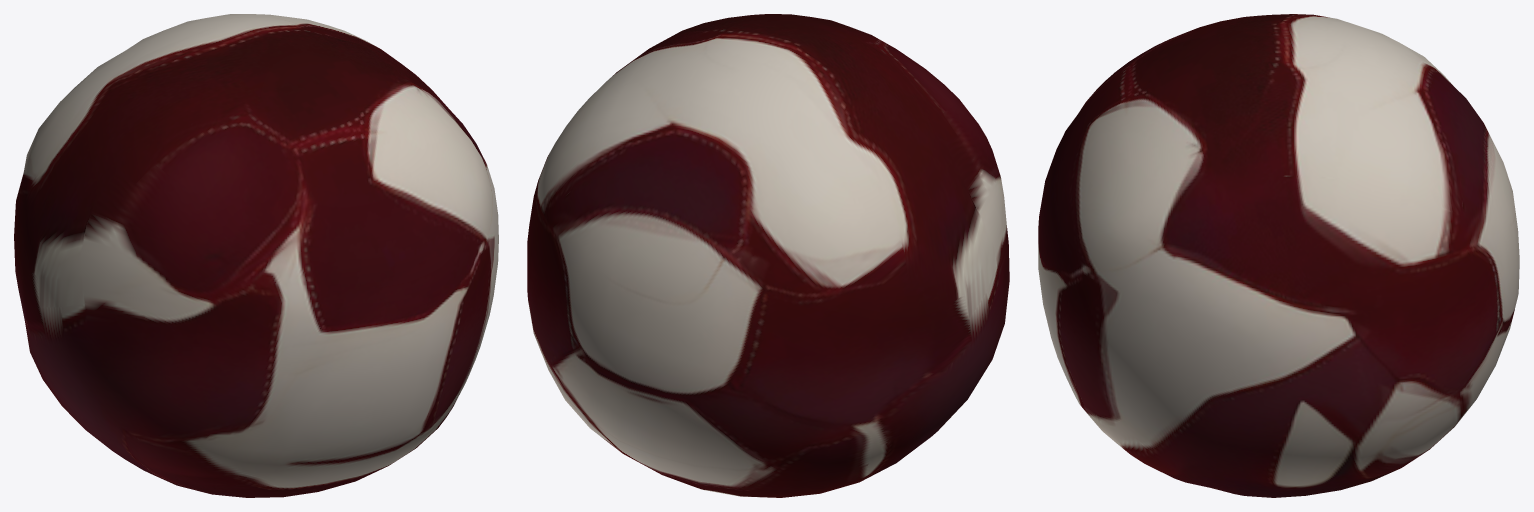
Rendered from 05-6493488-Red-and-White-Soccer-Ball-model-pack.glb.
The picture shows the model from 3 angles, left to right: view 1: azimuth 30°, elevation 25°; view 2: azimuth 150°, elevation 25°; view 3: azimuth 270°, elevation 25°; orthographic projection.
Parts seen in each view (by area): view 1: Retopo_neural_node_99a19559-0406-4a43-aaa1-5402b9b264b2; view 2: Retopo_neural_node_99a19559-0406-4a43-aaa1-5402b9b264b2; view 3: Retopo_neural_node_99a19559-0406-4a43-aaa1-5402b9b264b2.
Boxes of the visible parts, x1=… form: Retopo_neural_node_99a19559-0406-4a43-aaa1-5402b9b264b2: x1=14, y1=14, x2=498, y2=497; Retopo_neural_node_99a19559-0406-4a43-aaa1-5402b9b264b2: x1=527, y1=14, x2=1009, y2=497; Retopo_neural_node_99a19559-0406-4a43-aaa1-5402b9b264b2: x1=1038, y1=14, x2=1519, y2=497.
Size of the model in its own units: 0.9472 by 0.9471 by 0.9455.
Materials: 1 (1 with a texture image).
